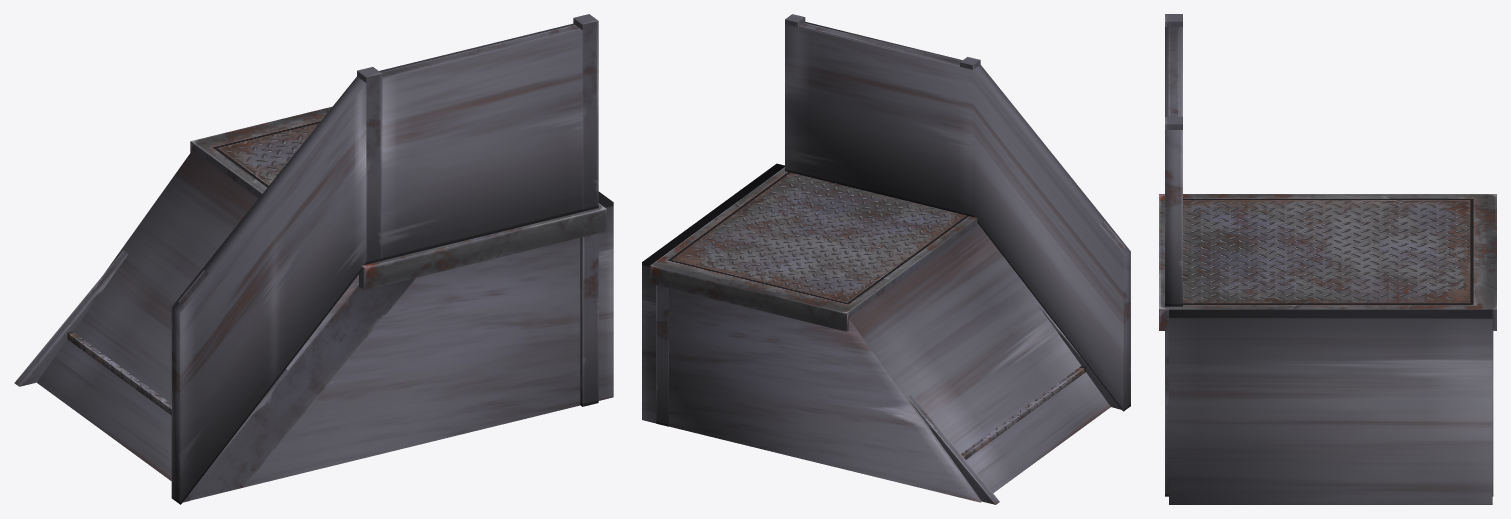
File: stairs04_E.fbx
3 views of the same model, side by side, from view 1: azimuth 30°, elevation 25°; view 2: azimuth 150°, elevation 25°; view 3: azimuth 270°, elevation 25° (orthographic). The views are drawn at different scales.
Visible parts, largest first — view 1: stairs04_E_COL, stairs04_E; view 2: stairs04_E_COL, stairs04_E; view 3: stairs04_E_COL, stairs04_E.
Boxes of the visible parts, x1,y1,x2,y2 form: stairs04_E_COL: (37,23,613,504); stairs04_E: (14,14,606,502); stairs04_E_COL: (642,22,1130,502); stairs04_E: (650,14,1124,504); stairs04_E_COL: (1165,27,1492,504); stairs04_E: (1159,14,1496,496).
Bounding box in the file's own units: 244 × 205 × 169.
